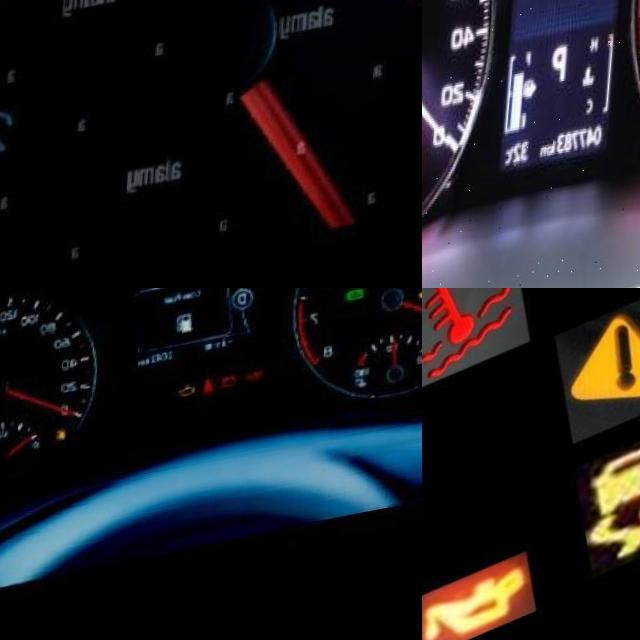Central Warning lamp: (550, 291, 640, 454)
Engine cooling system: (422, 288, 541, 392)
Seat Belt: (206, 393, 221, 413)
